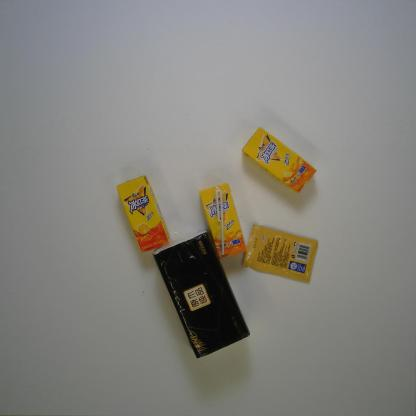Drink: (241, 126, 317, 193), (116, 175, 170, 254), (199, 182, 246, 259)
Seasoner: (242, 224, 318, 284)
Tissue: (153, 229, 250, 359)
